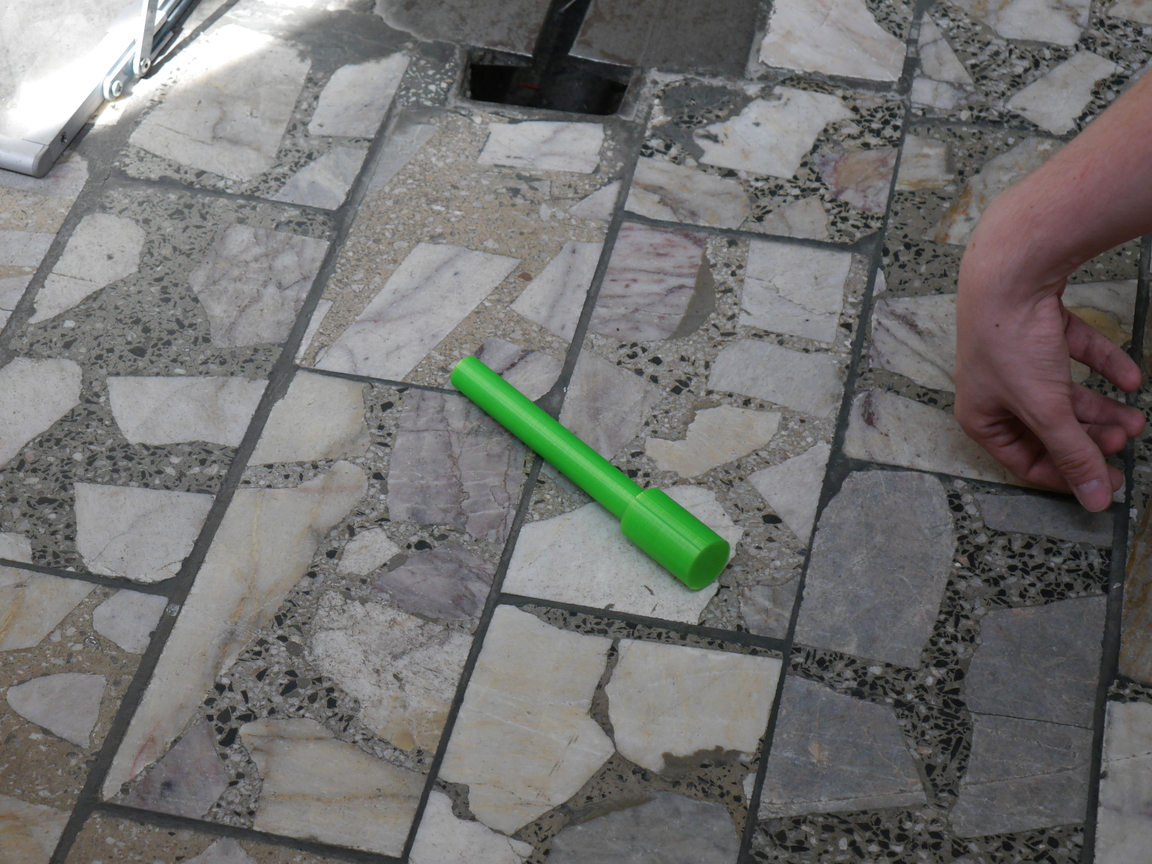cargo_g: (449, 356, 732, 592)
